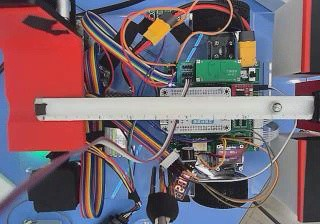ironball: (271, 102, 281, 112)
